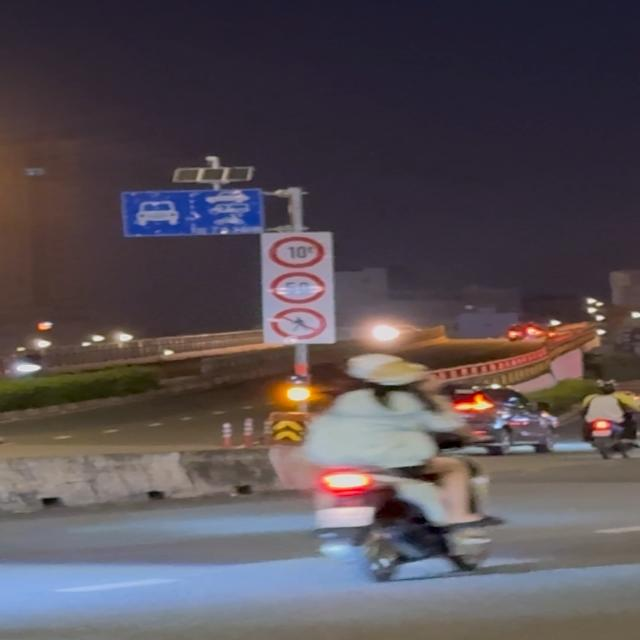Bien bao cam nguoi di bo: (268, 305, 330, 339)
Bien bao toc do toi da cho phep: (268, 271, 326, 307)
